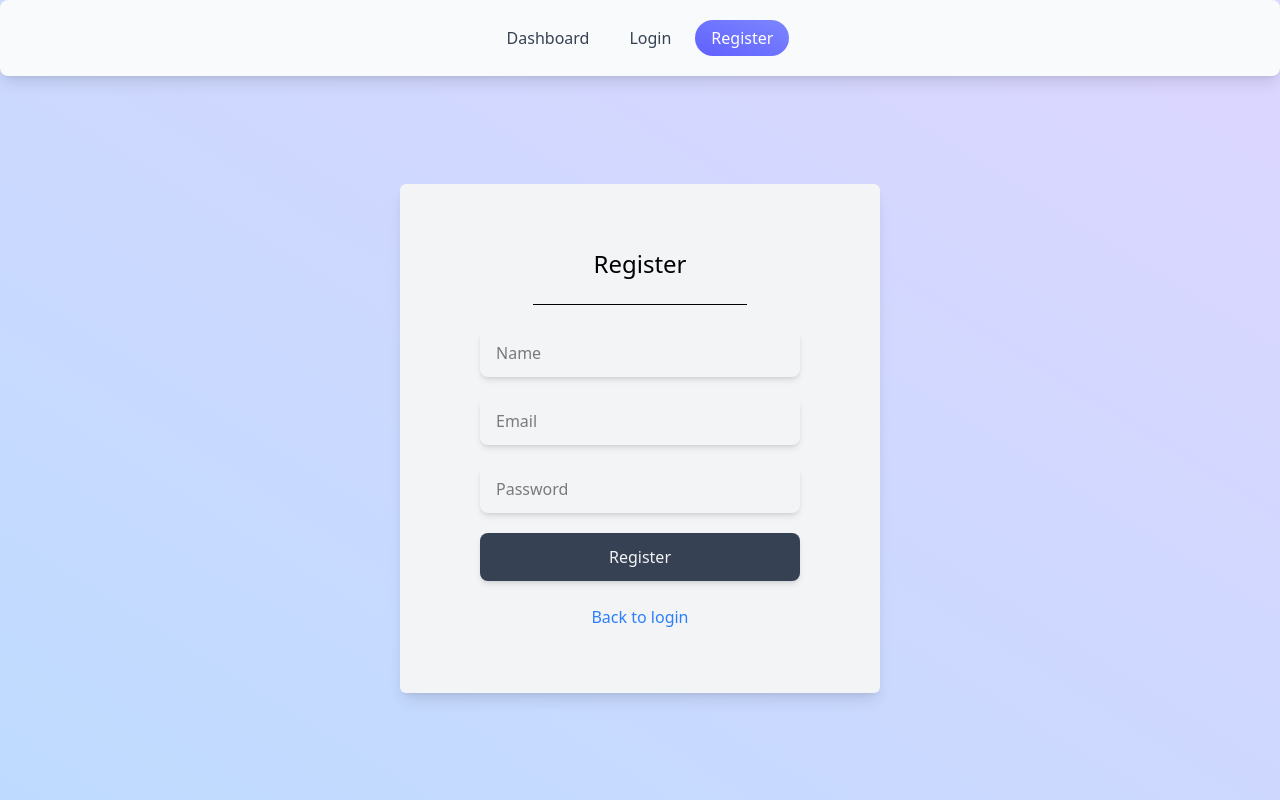
Test case: visiting login route › guest attempts to register, server is down
This screenshot has width=1280, height=800.
Expected: the heading "Register" is shown, top-left (594, 246), bottom-right (686, 280)
In the field with placeholder "Name": [640, 352] box top-left (480, 328), bottom-right (800, 376), type "Test User"
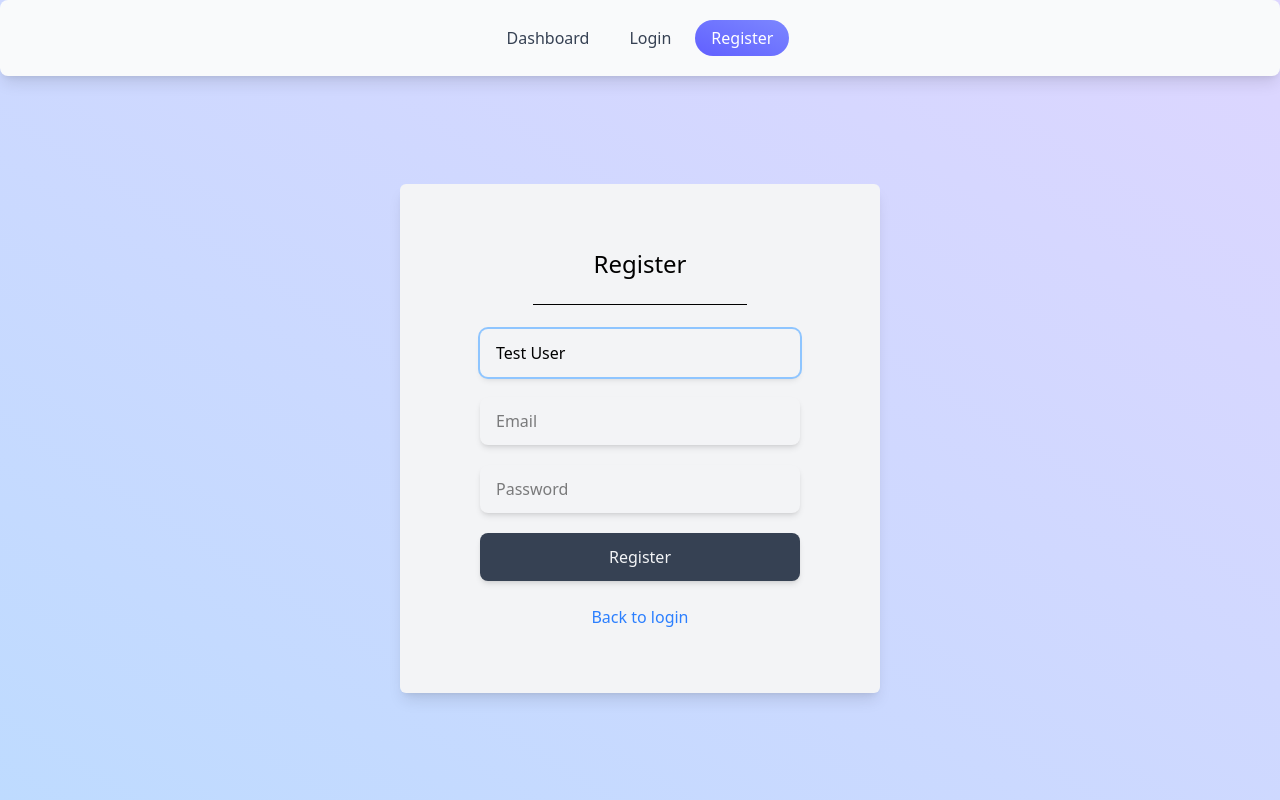
In the field with placeholder "Email": [640, 420] box top-left (480, 396), bottom-right (800, 444), type "test@email.com"
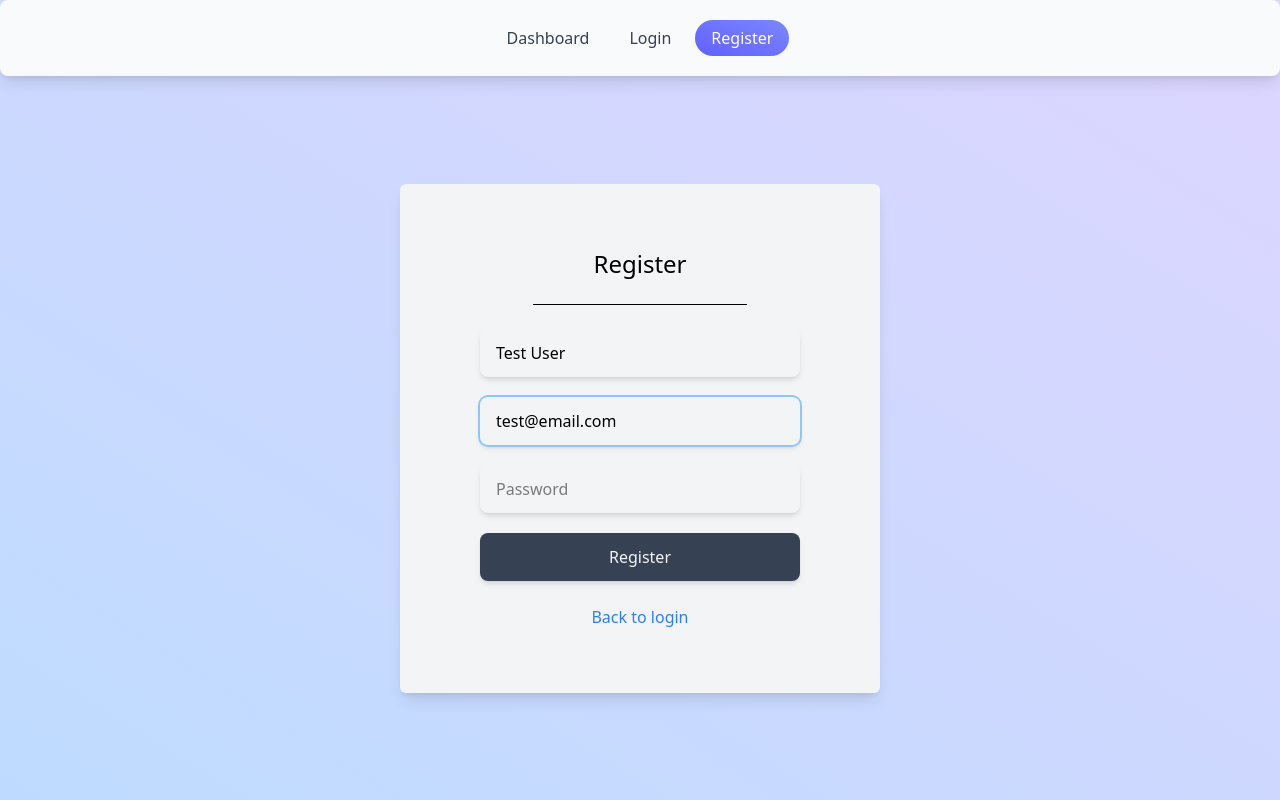
In the password field with placeholder "Password": [640, 488] box top-left (480, 464), bottom-right (800, 512), type "password"
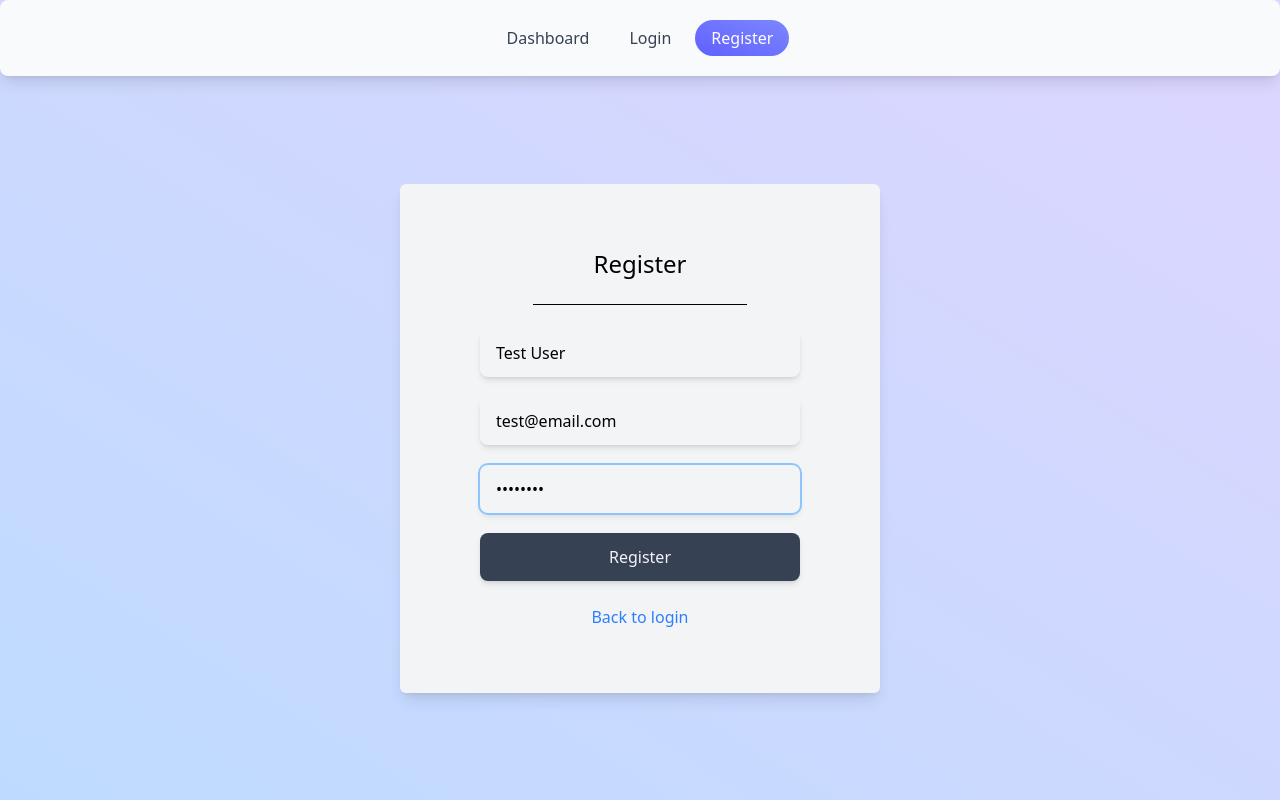
Submit the form
Click the button "Register": [640, 556] box top-left (480, 532), bottom-right (800, 580)
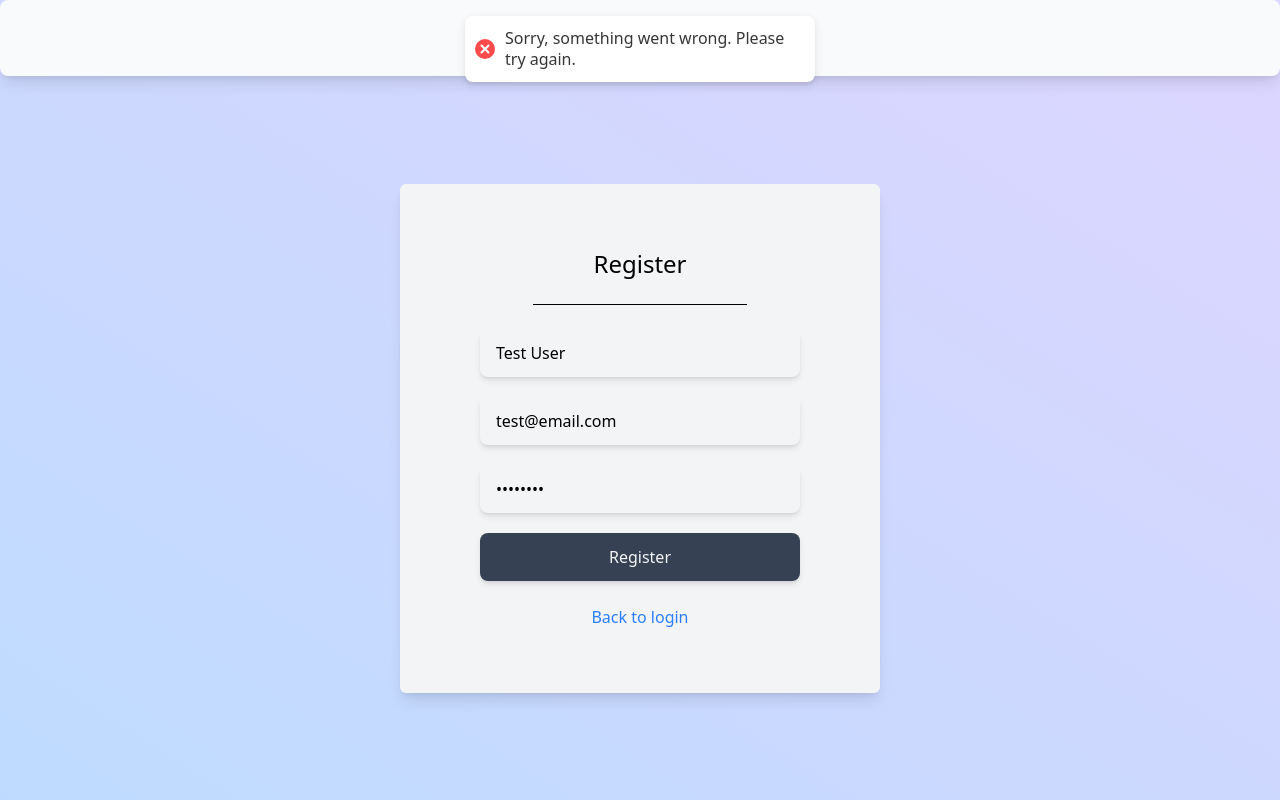
Result: the text "Sorry, something went wrong. Please try again." is shown at top-left (505, 28), bottom-right (795, 70)
